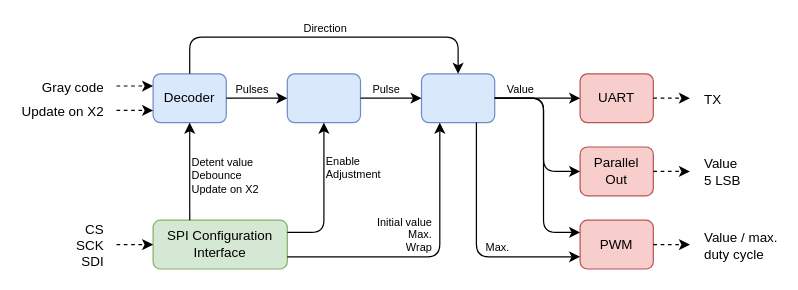
The diagram is 798 pixels wide and 290 high, and some of its shapes have lost their labels. Each missing label, with the centre of its shape:
Counter: (457,98)
Gearbox: (323,98)
